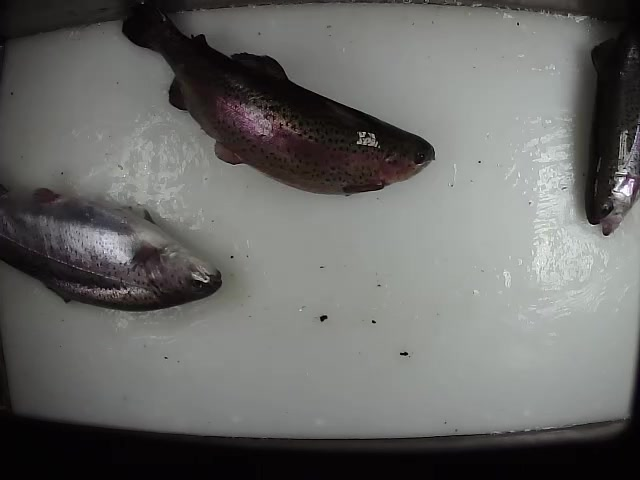fish: (120, 5, 437, 199)
